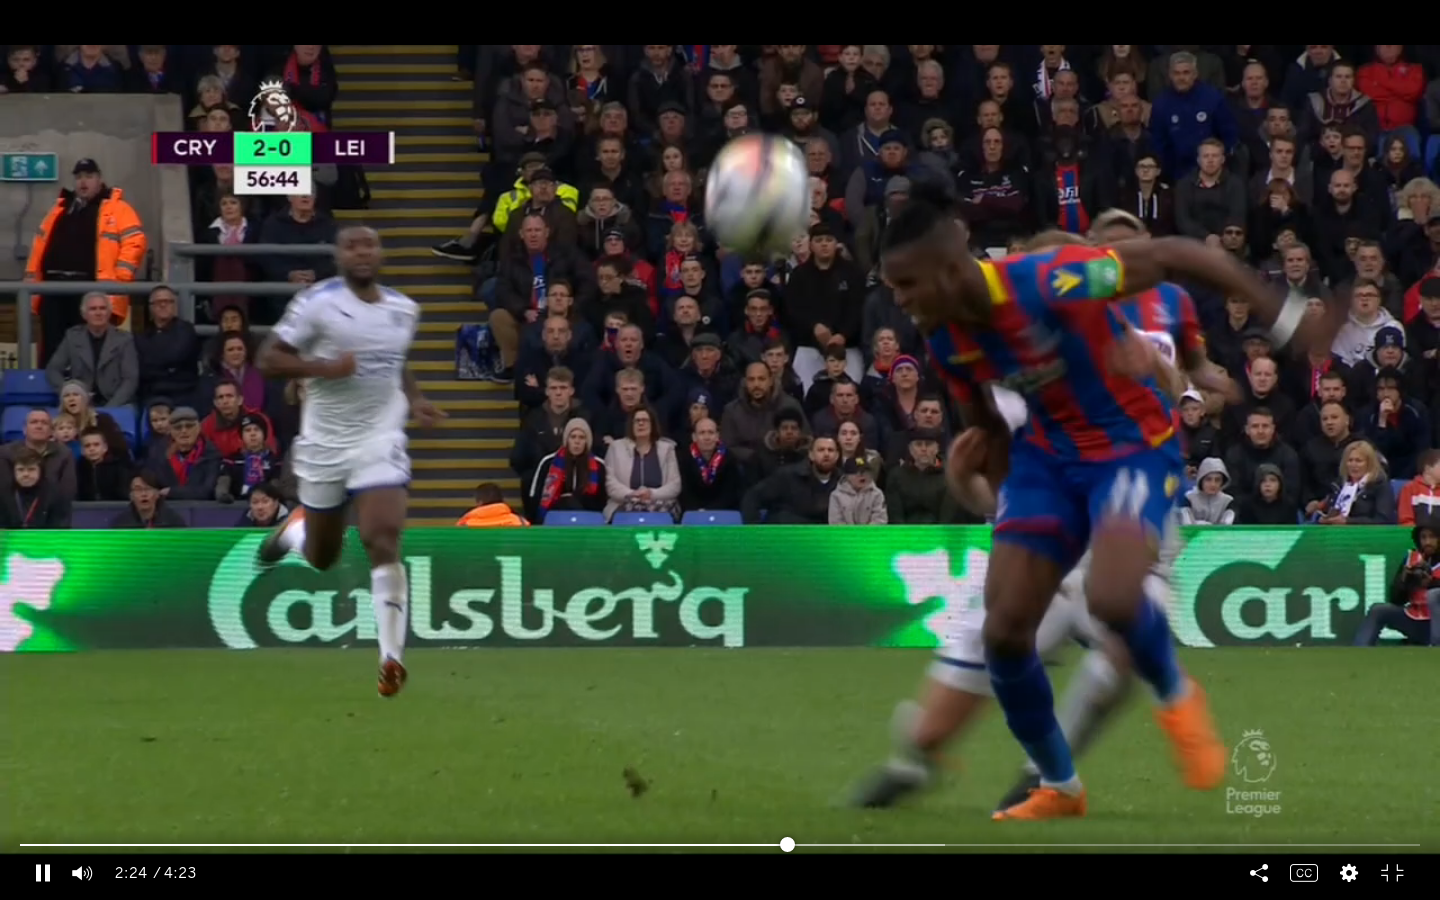soccer player: (875, 203, 1290, 826), (259, 225, 416, 708)
soccerball: (702, 131, 819, 254)
